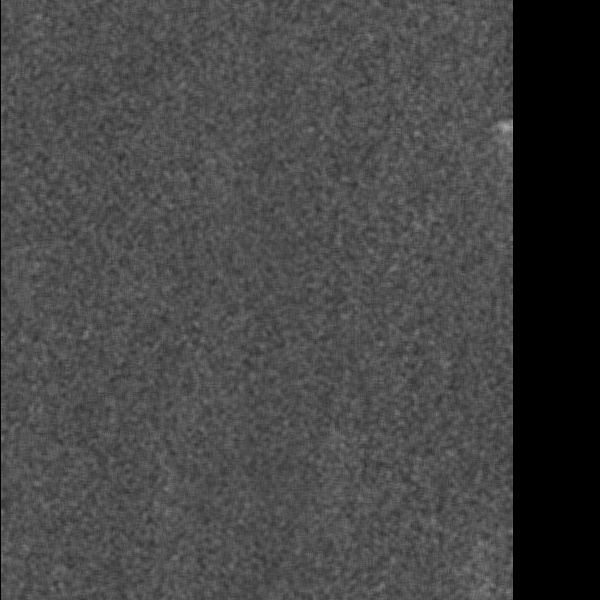spark: (494, 117, 515, 156)
